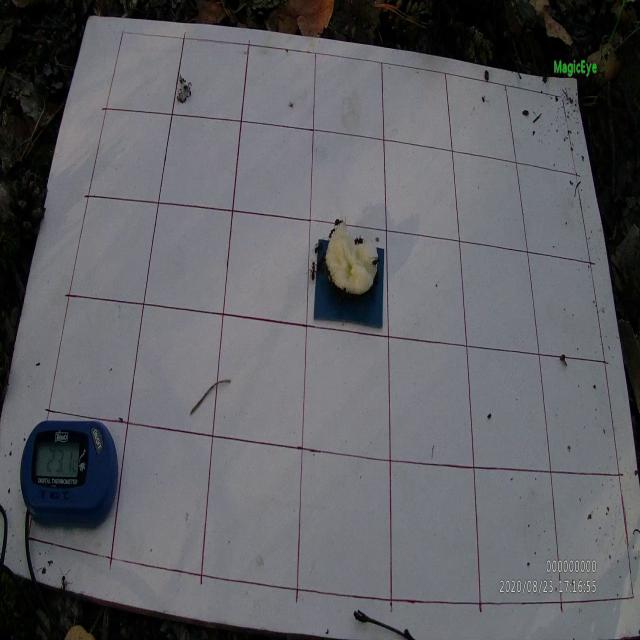Ant: (56, 568, 73, 600), (306, 258, 318, 284), (369, 254, 380, 270), (312, 242, 324, 254), (354, 234, 364, 246), (328, 228, 336, 238)
